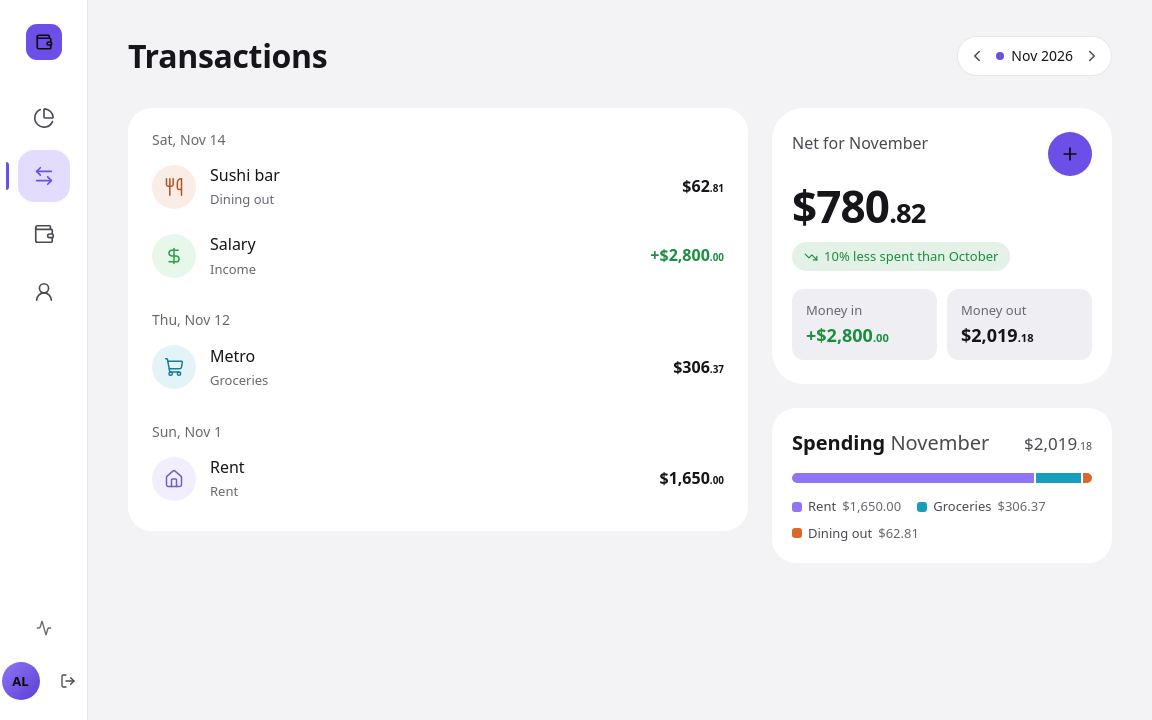
the backend's reason for refusing is shown, and the form stays open
This screenshot has width=1152, height=720.
Expected: the element "Net for November" is shown, [772,108,1112,384]
Click the button named "New transaction" at (1070, 154), box [1048,132,1092,176]
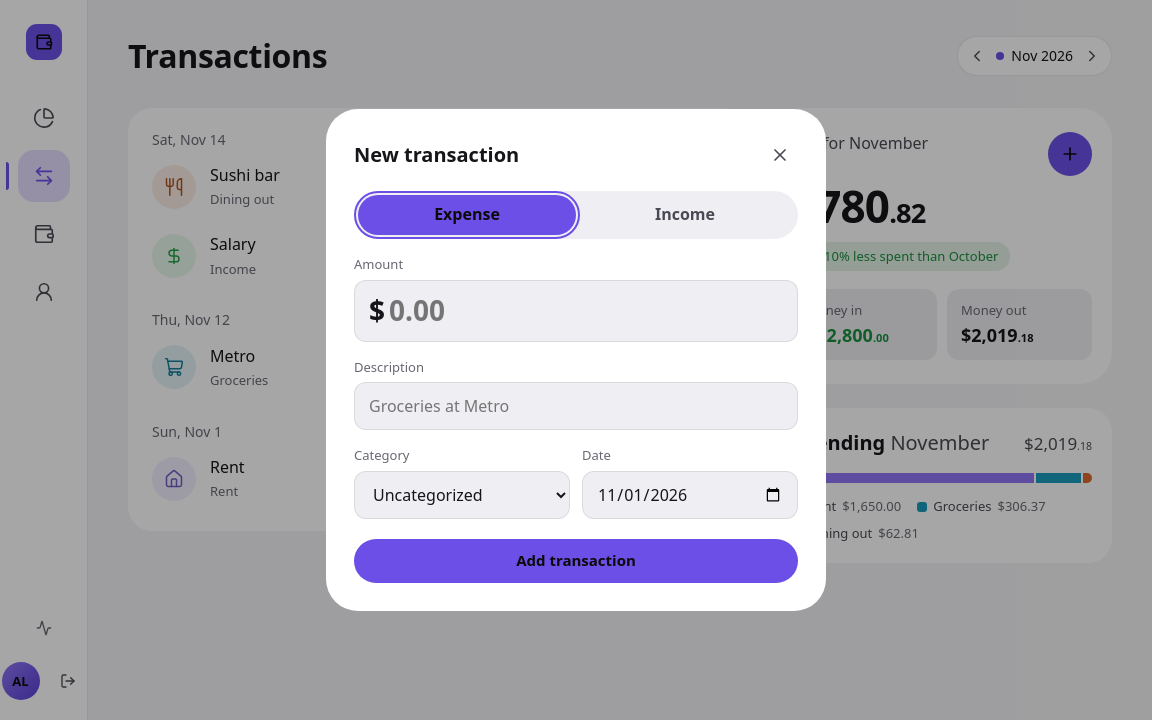
Type "2000000" into the field labelled "Amount" at (593, 311), box [389,281,797,341]
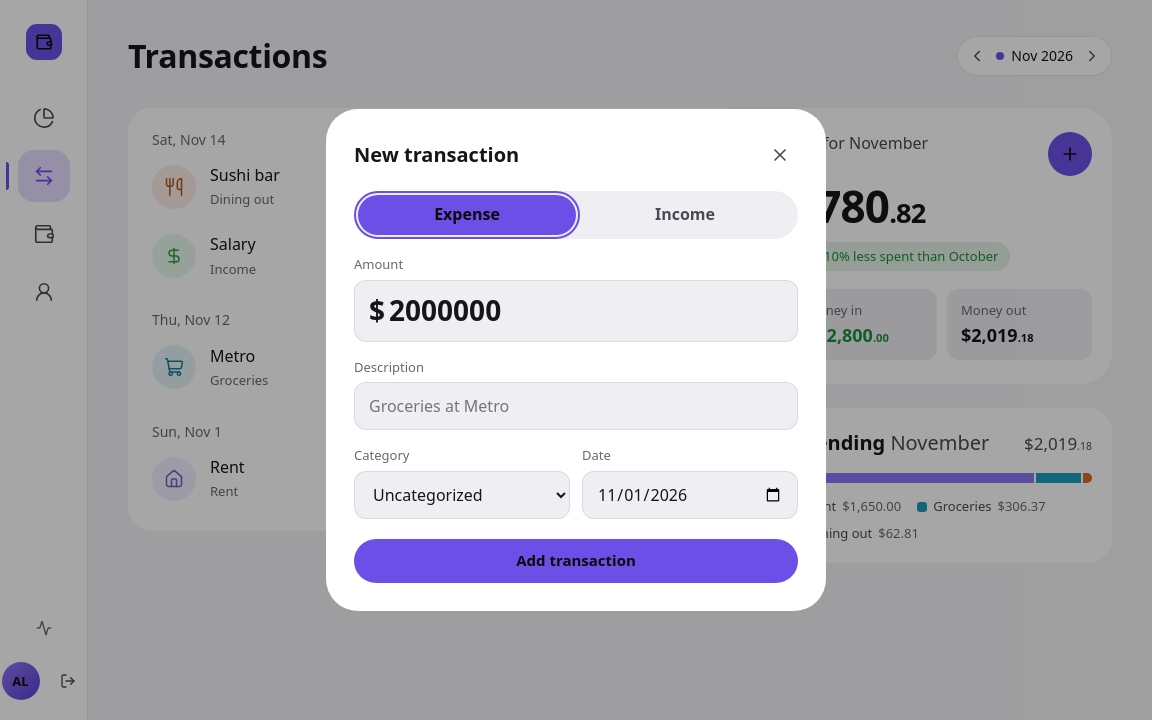
Type "Yacht" into the field labelled "Description" at (576, 406), box [354,382,798,430]
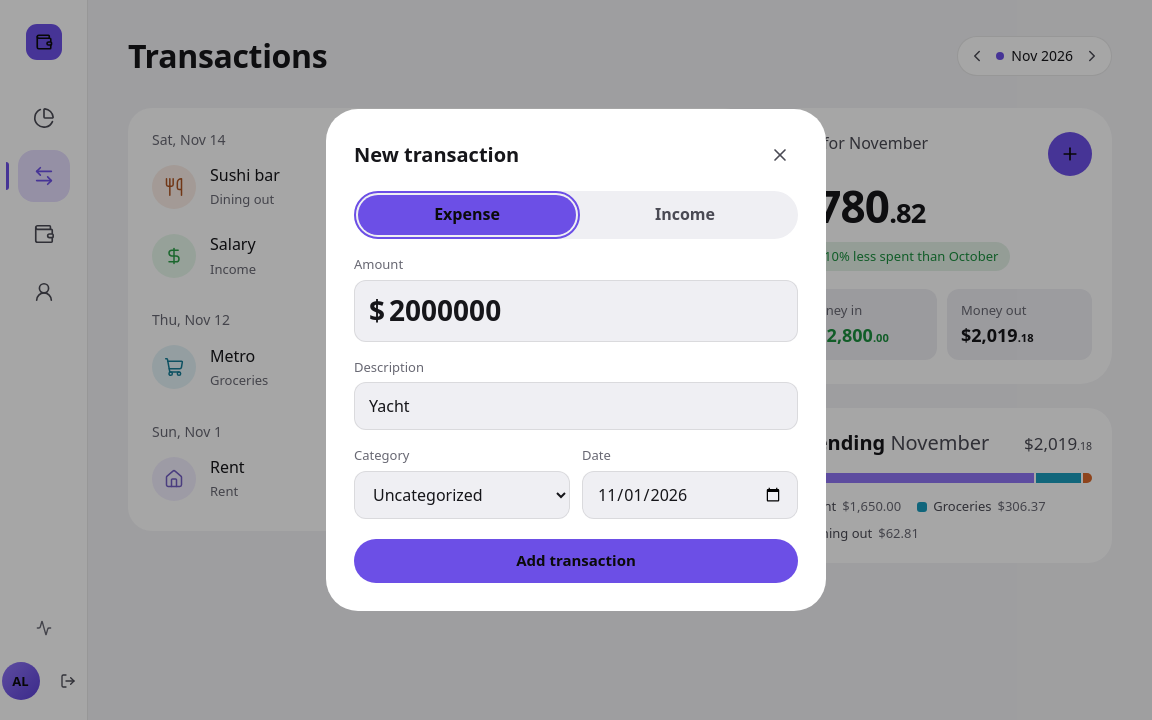
Click the button "Add transaction" at (576, 561), box [354,539,798,583]
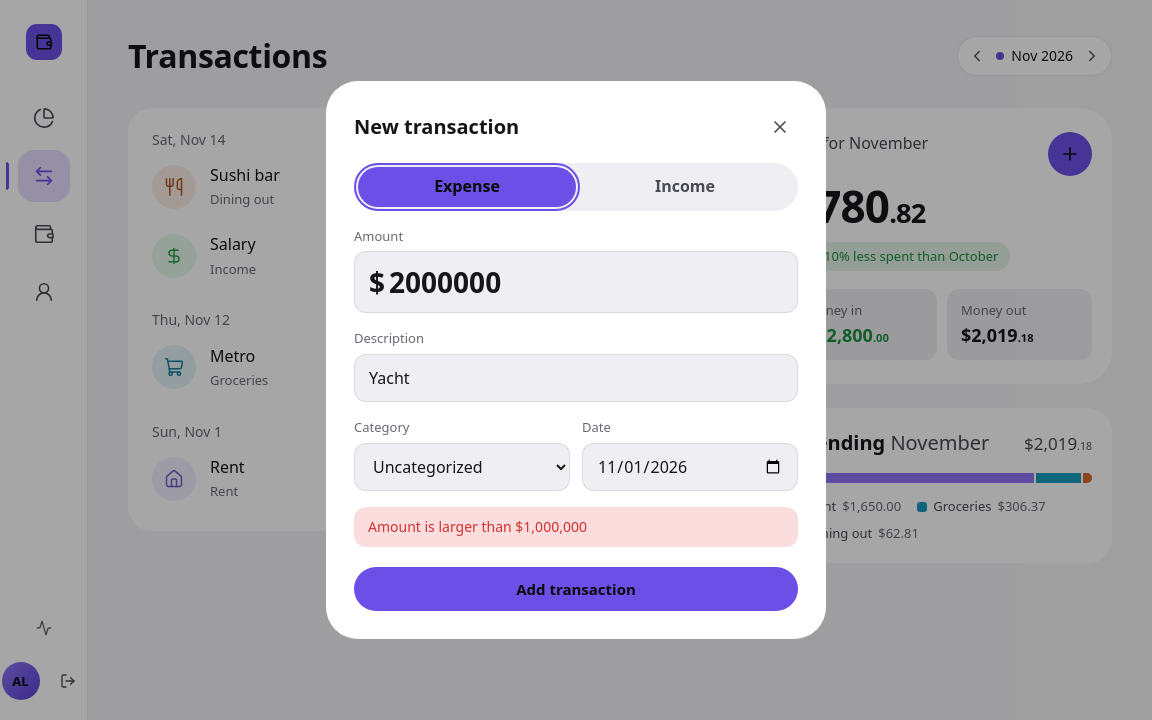
Now the text "Amount is larger than $1,000,000" is shown, box [354,507,798,547]
